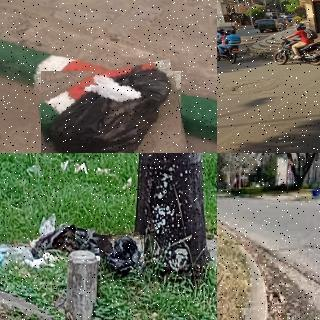Garbage: (37, 65, 185, 153), (29, 218, 106, 259), (99, 233, 146, 282)
